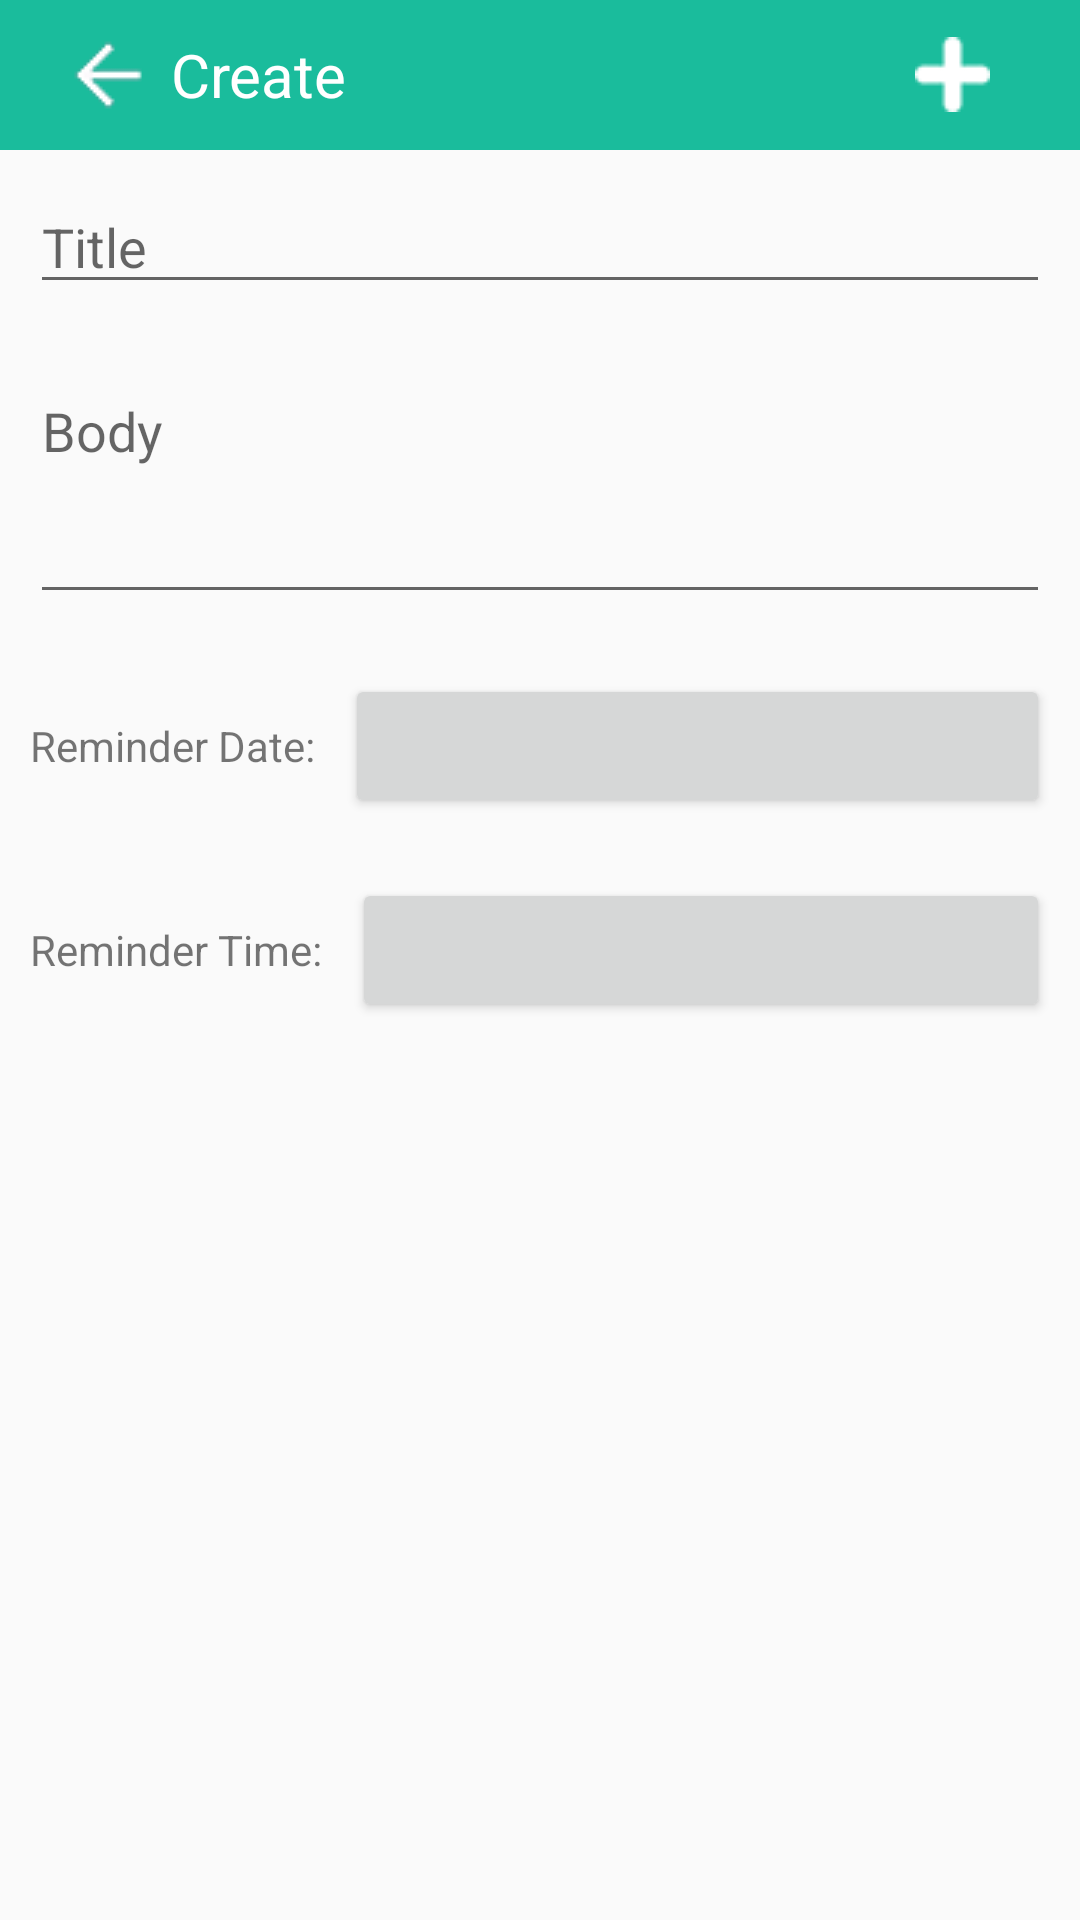

Where icons sit on this 1080×1920 app screen, as bbox=[x1, y1, x2, y2]:
back: bbox=[75, 42, 142, 108]
create: bbox=[915, 37, 990, 112]
